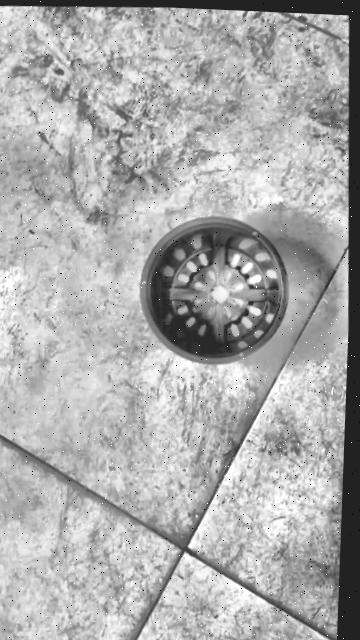pot: (133, 212, 294, 369)
